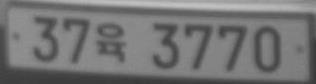0: (254, 24, 281, 71)
3: (152, 23, 179, 67), (33, 16, 58, 61)
7: (184, 24, 212, 69), (63, 18, 90, 63), (220, 25, 247, 70)
육: (96, 22, 127, 62)
